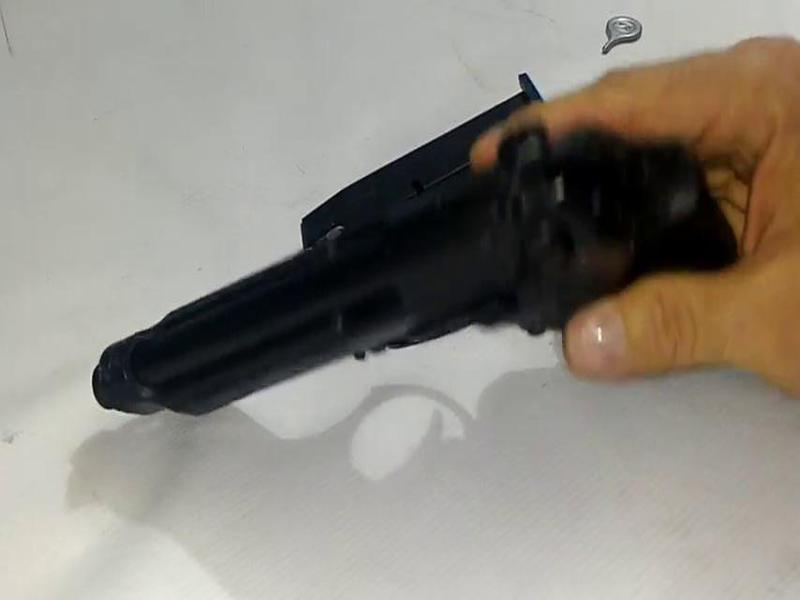Pistola: (62, 82, 758, 457)
